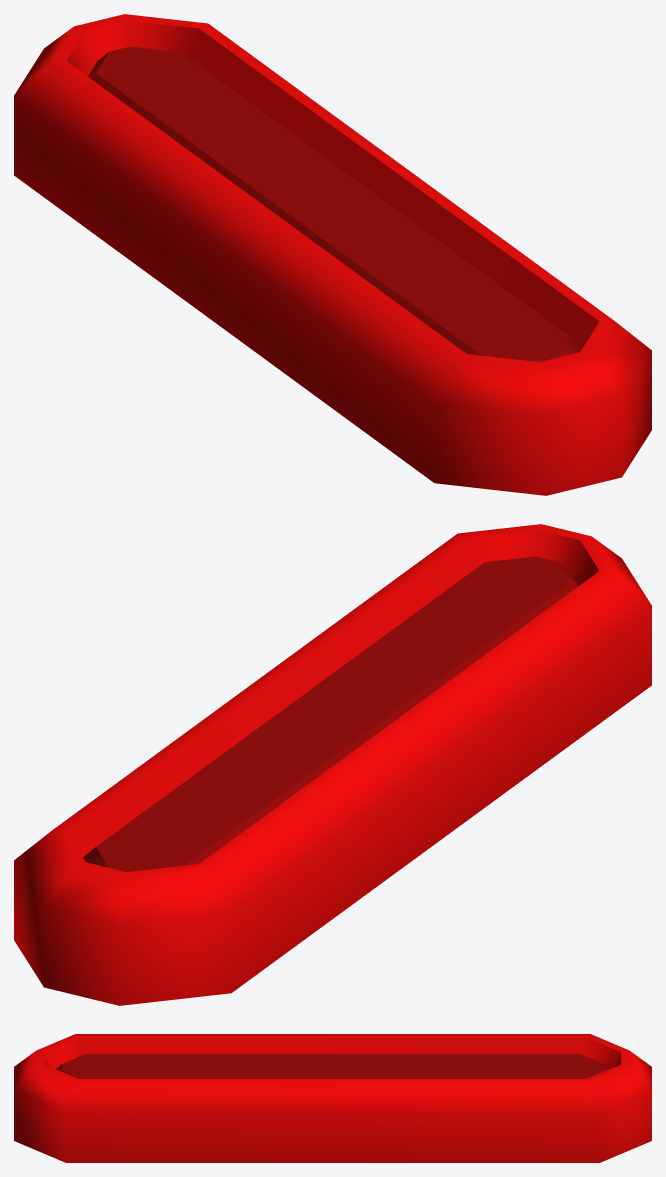
File: SM_Light_D.gltf
3 views of the same model, one above another, from view 1: azimuth 30°, elevation 25°; view 2: azimuth 150°, elevation 25°; view 3: azimuth 270°, elevation 25° (orthographic). The views are drawn at different scales.
Parts seen in each view (by area): view 1: SM_Light_D; view 2: SM_Light_D; view 3: SM_Light_D.
Part boxes in pixels (x1,y1,x2,y2): SM_Light_D: [14, 14, 651, 495]; SM_Light_D: [14, 524, 651, 1005]; SM_Light_D: [14, 1034, 651, 1162].
Size of the model in its own units: 0.183 by 0.0897 by 0.7321.
